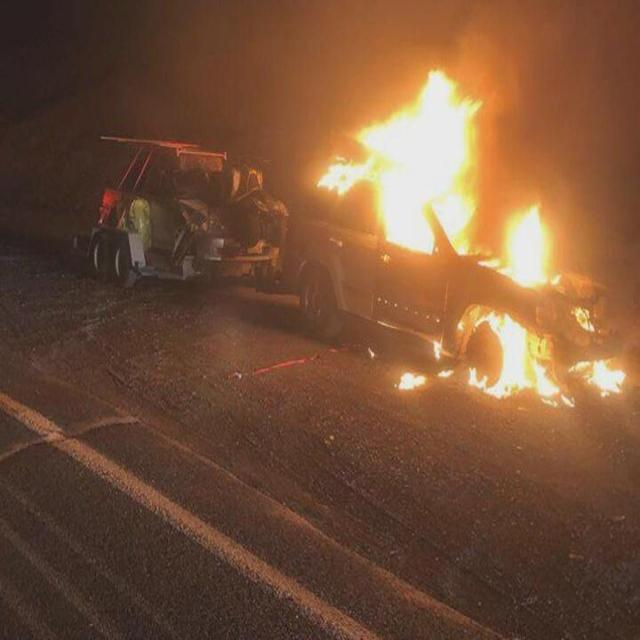fire: (368, 80, 475, 236)
